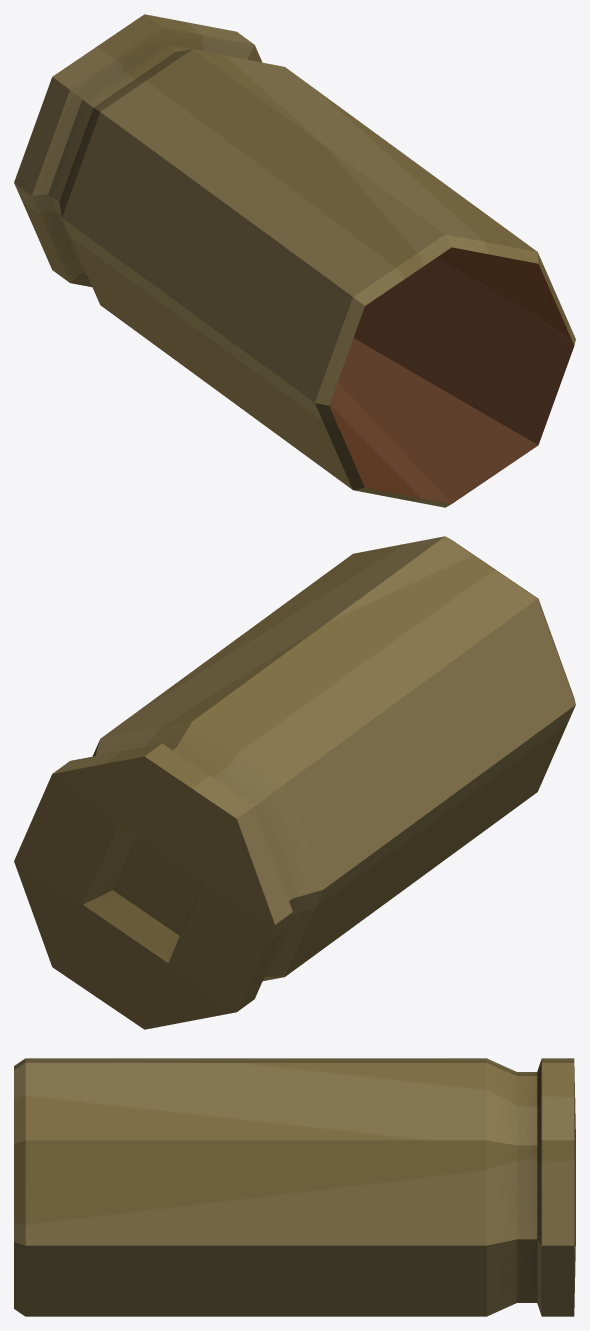
Rendered from 45_acp_casing_UVed.FBX.
The picture shows the model from 3 angles, top to bottom: view 1: azimuth 30°, elevation 25°; view 2: azimuth 150°, elevation 25°; view 3: azimuth 270°, elevation 25°; orthographic projection. The views are drawn at different scales.
Visible parts, largest first — view 1: 45_acp_round01; view 2: 45_acp_round01; view 3: 45_acp_round01.
Part boxes in pixels (x1=…): 45_acp_round01: x1=14, y1=14, x2=575, y2=507; 45_acp_round01: x1=14, y1=536, x2=575, y2=1029; 45_acp_round01: x1=14, y1=1058, x2=575, y2=1316.
Bounding box in the file's own units: 0.0111 × 0.0228 × 0.0111.
Materials: 1 (1 with a texture image).
